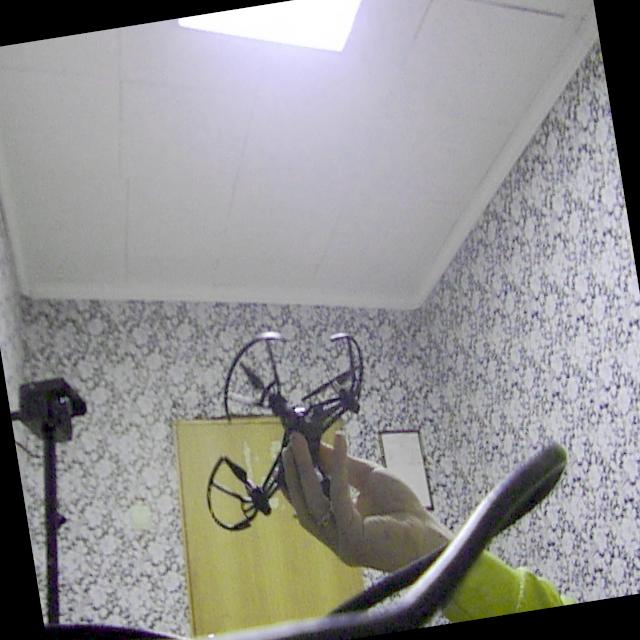drone: (176, 304, 401, 570)
